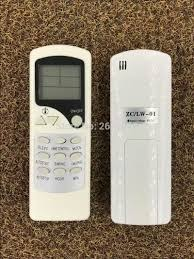remote control: (29, 49, 90, 220), (112, 54, 168, 222)
